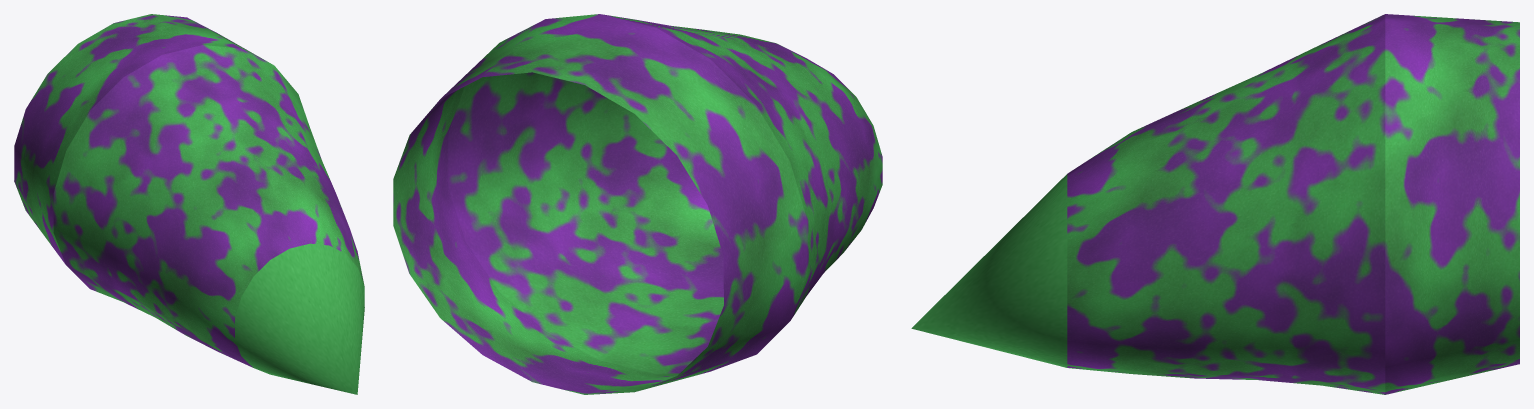
The model's file is bodyTail.fbx.
The picture shows the model from 3 angles, left to right: view 1: azimuth 30°, elevation 25°; view 2: azimuth 150°, elevation 25°; view 3: azimuth 270°, elevation 25°; orthographic projection. The views are drawn at different scales.
Visible parts, largest first — view 1: bodyTail; view 2: bodyTail; view 3: bodyTail.
Part boxes in pixels (bbox=[...]): bodyTail: bbox=[14, 14, 364, 394]; bodyTail: bbox=[393, 14, 882, 394]; bodyTail: bbox=[911, 14, 1519, 394].
Bounding box in the file's own units: 1.21 × 1.11 × 1.83.
2 materials, 2 textured.
